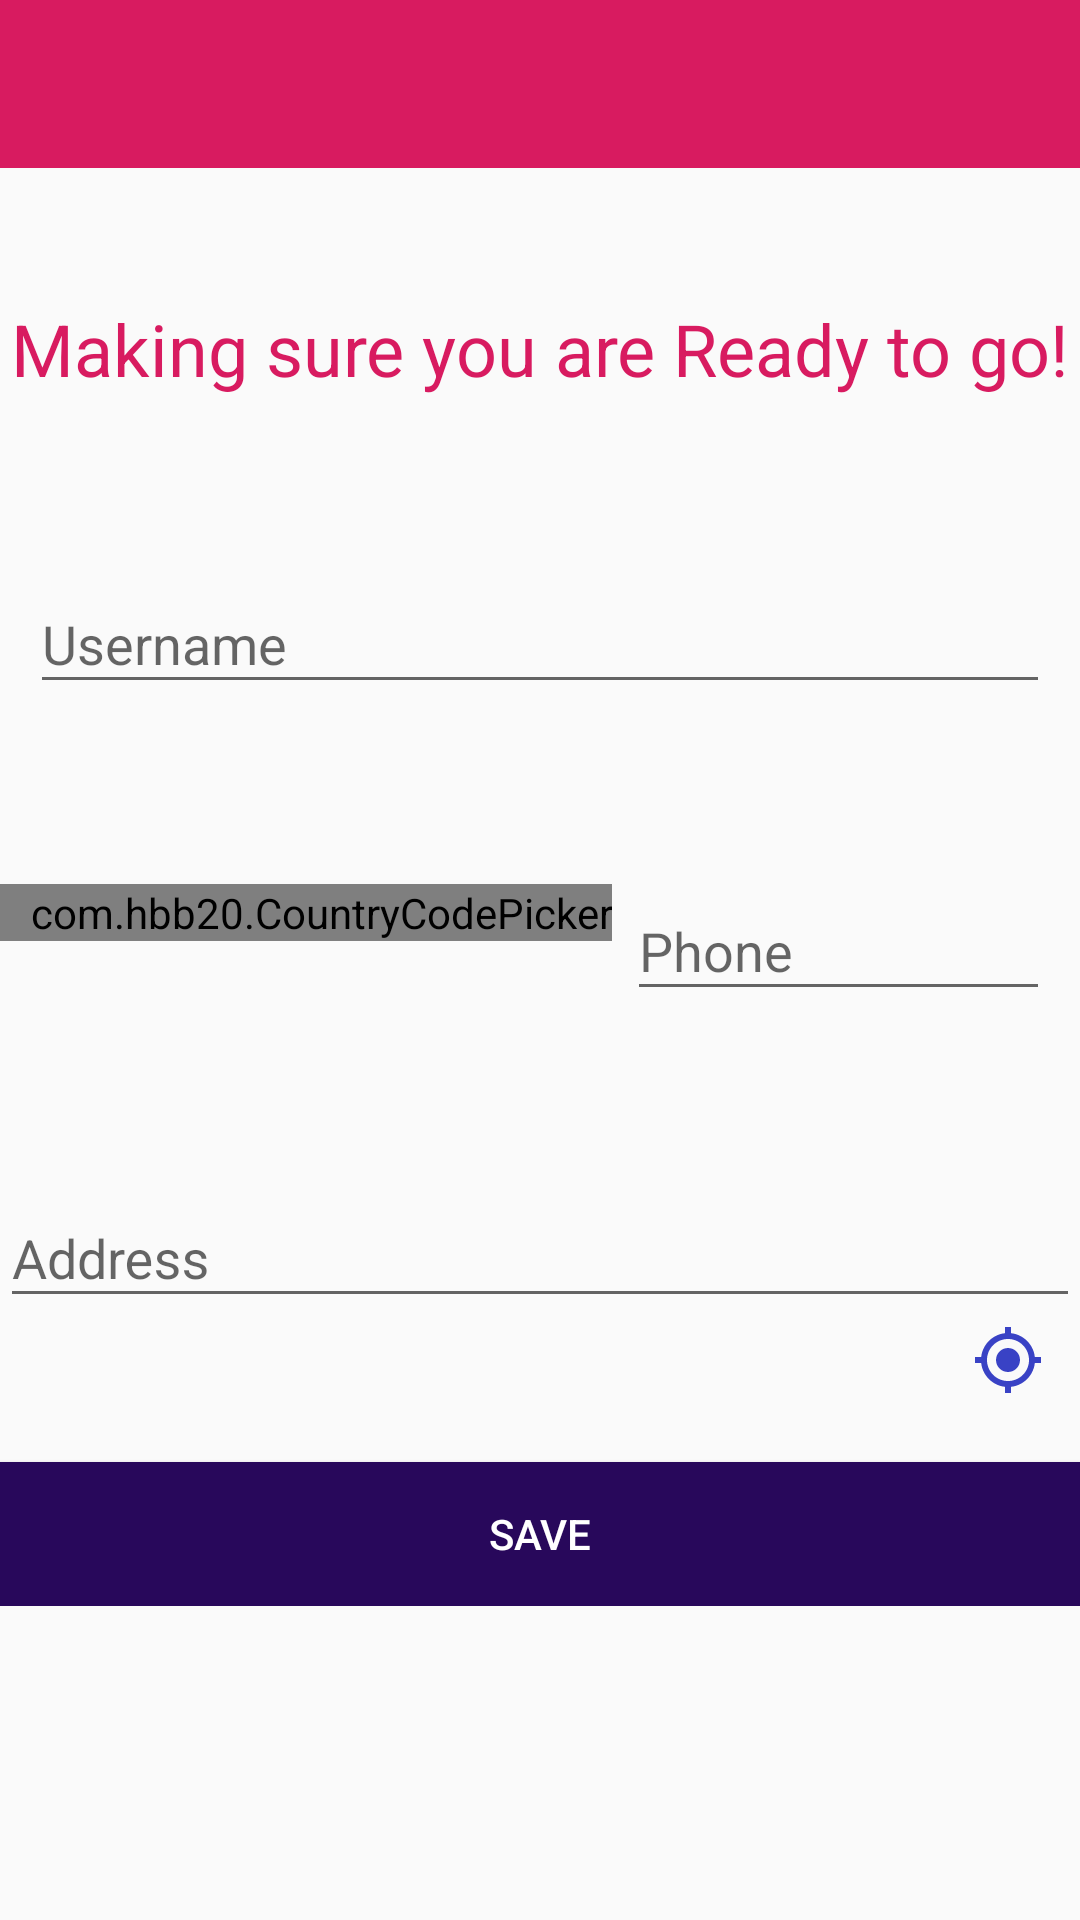

Screen size 1080px×1920px. Icon name, then its center in pixels as (x,y):
location: (1008,1360)
